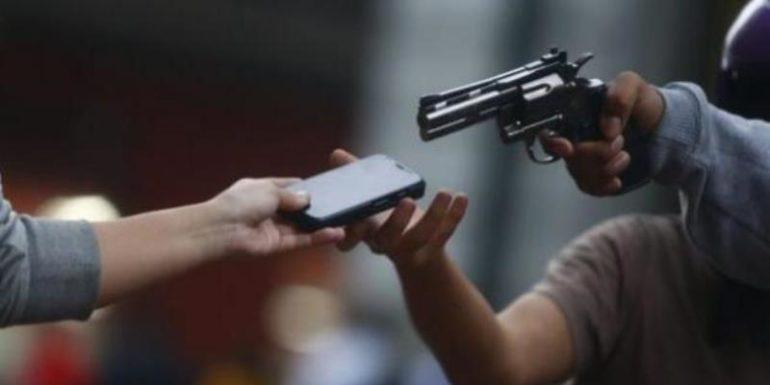Arma Real: (421, 47, 619, 176)
